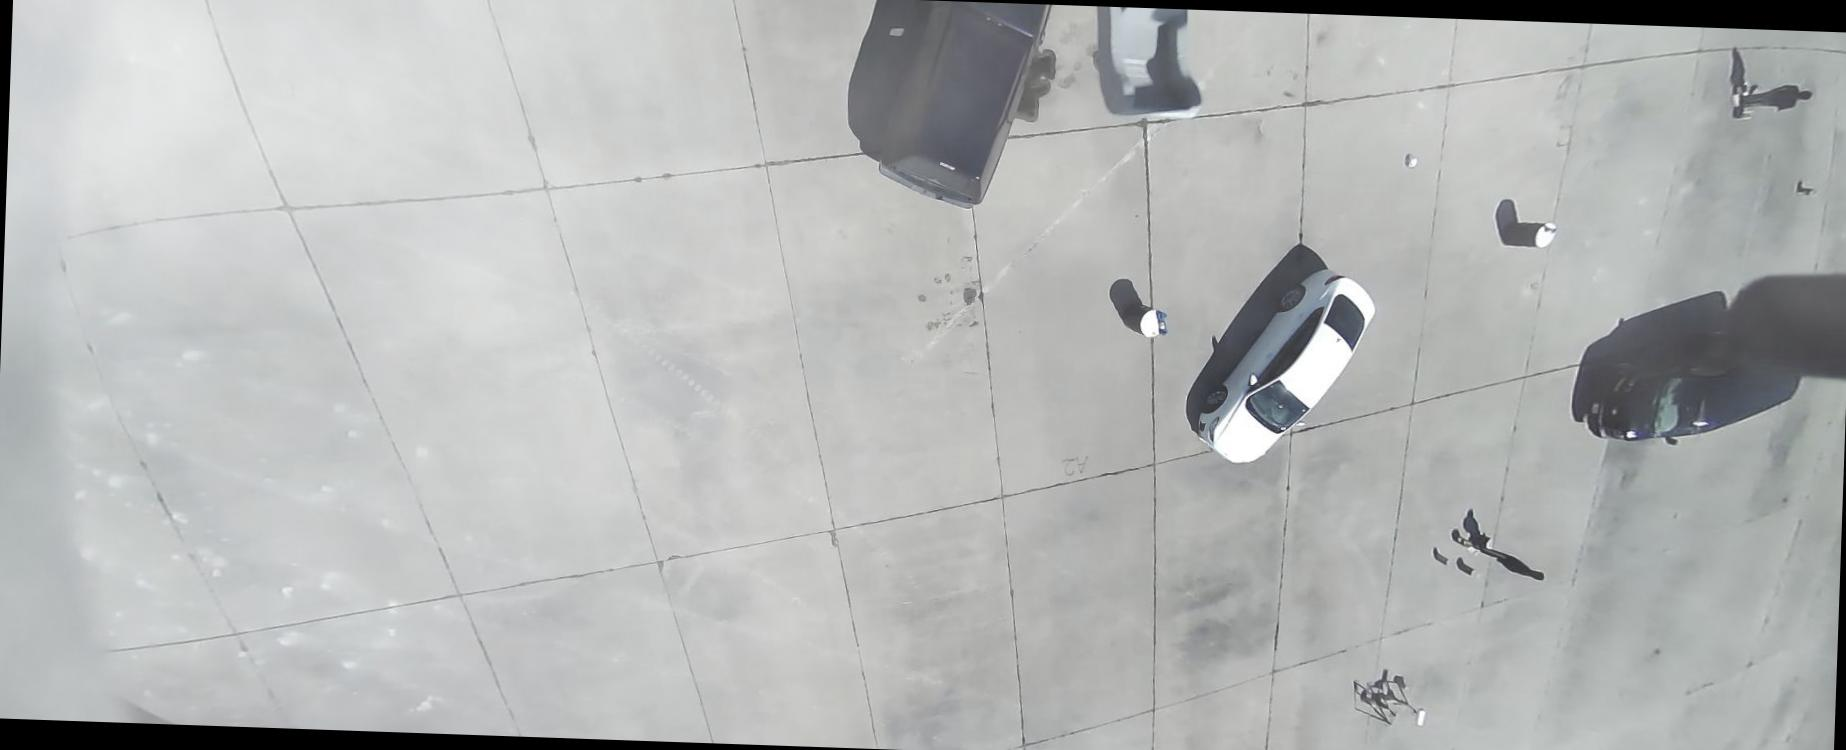vehicle: (877, 0, 1054, 211), (1194, 264, 1376, 466), (1583, 324, 1801, 450)
